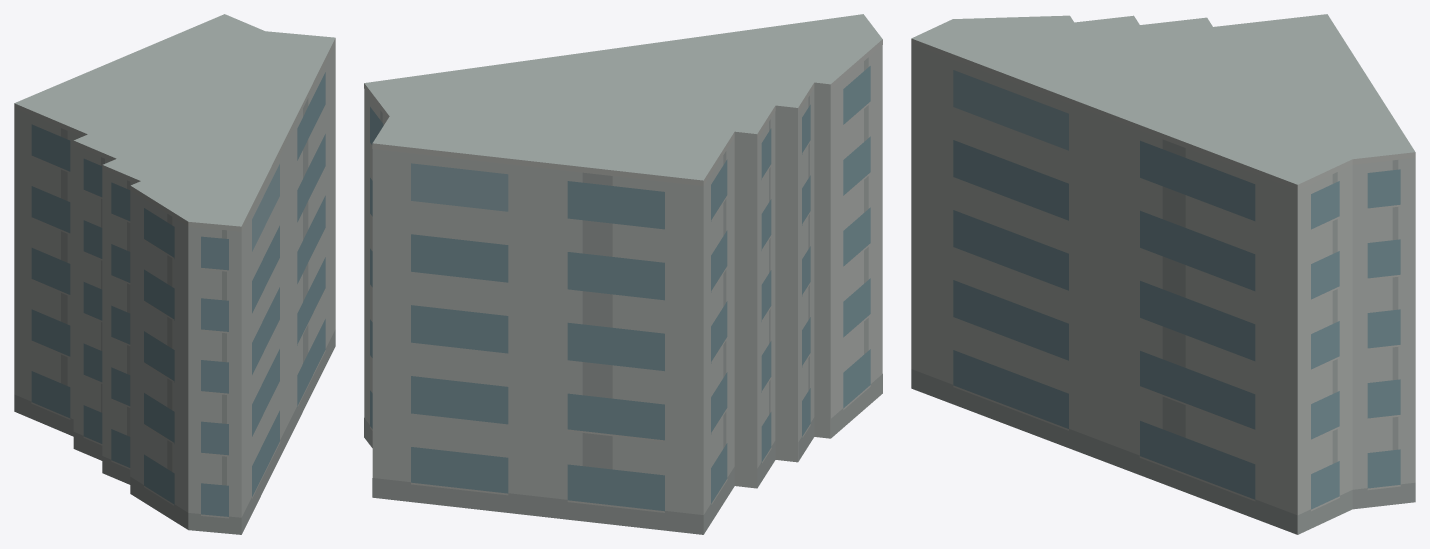
The model's file is survey-upis-32992645.glb.
3 renders of one model, left to right at view 1: azimuth 30°, elevation 25°; view 2: azimuth 150°, elevation 25°; view 3: azimuth 270°, elevation 25°, orthographic. The views are drawn at different scales.
Parts seen in each view (by area): view 1: survey-upis-32992645.tmp; view 2: survey-upis-32992645.tmp; view 3: survey-upis-32992645.tmp.
Part boxes in pixels (x1=…): survey-upis-32992645.tmp: x1=14, y1=14, x2=335, y2=534; survey-upis-32992645.tmp: x1=364, y1=14, x2=882, y2=534; survey-upis-32992645.tmp: x1=911, y1=14, x2=1415, y2=534.
Size of the model in its own units: 15.76 by 15.05 by 19.66.
